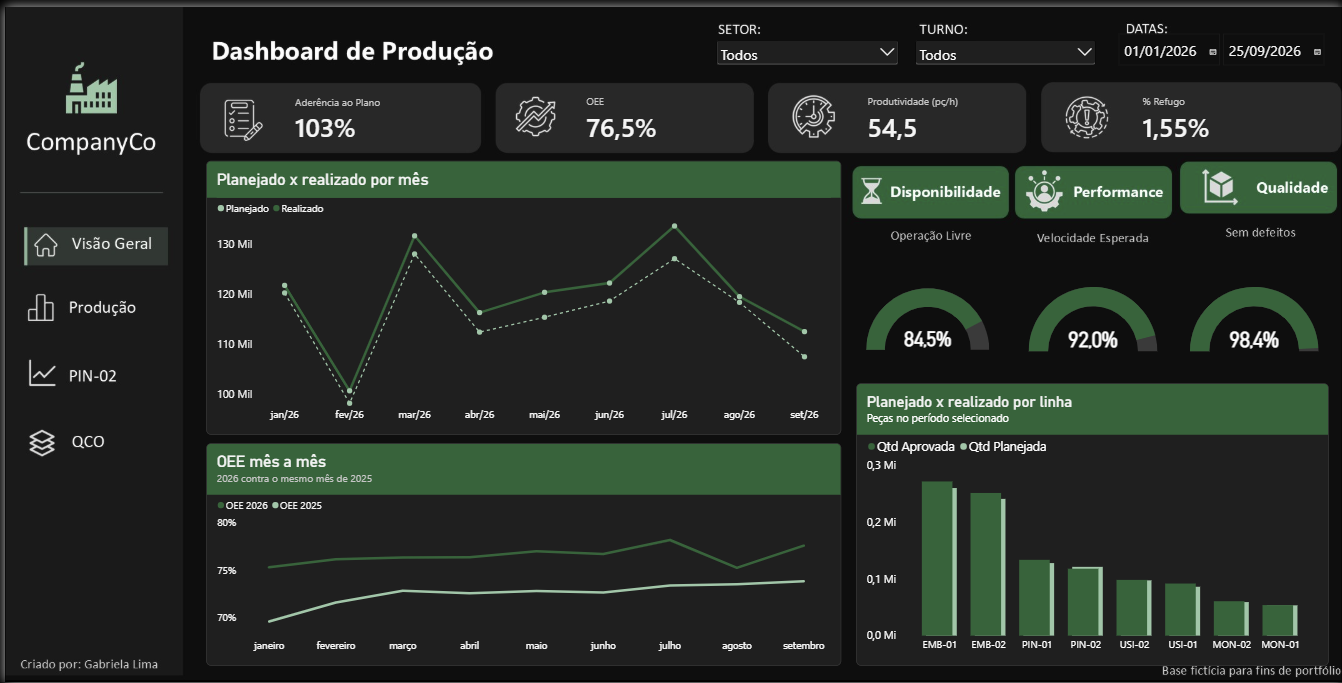

The dashboard page shown, as its layout file describes it:
{"tool":"powerbi","page":{"name":"Gestor","canvas":[2140,1080],"ordinal":0},"visuals":[{"type":"cardVisual","fields":{"Data":["Calendario.Aderência ao Plano"]},"box":[448.3,123.3,315,110],"z":0},{"type":"cardVisual","fields":{"Data":["Calendario.OEE"]},"box":[913.3,123.3,280,110],"z":1000},{"type":"cardVisual","fields":{"Data":["Calendario.Produtividade (pç/h)"]},"box":[1363.3,123.3,278.3,110],"z":2000},{"type":"cardVisual","fields":{"Data":["Calendario.% Refugo"]},"box":[1803.3,123.3,336.7,110],"z":3000},{"type":"lineChart","title":"Planejado x realizado por mês","fields":{"Category":["Calendario.Início do Mês"],"Y":["Calendario.Qtd Planejada","Calendario.Qtd Aprovada"]},"box":[322,246,1016,438],"z":4000},{"type":"slicer","fields":{"Values":["Turno.Turno"]},"box":[1452,48,298,50],"z":5000},{"type":"slicer","fields":{"Values":["LinhaSetor.Setor"]},"box":[1134,48,300,70],"z":6000},{"type":"gauge","fields":{"Y":["Calendario.Disponibilidade"]},"box":[1362.5,398.8,228.8,203.8],"z":7000},{"type":"gauge","fields":{"Y":["Calendario.Performance"]},"box":[1621.2,398.8,237.5,203.8],"z":8000},{"type":"gauge","fields":{"Y":["Calendario.Qualidade"]},"box":[1880,398.8,237.5,203.8],"z":9000},{"type":"slicer","fields":{"Values":["Calendario.Datas"]},"box":[1774,38,366,86],"z":10000},{"type":"lineChart","title":"OEE mês a mês","fields":{"Category":["Calendario.Nome do Mês"],"Y":["Calendario.OEE","Calendario.OEE Ano Anterior"]},"box":[322,698,1016,356],"z":11000},{"type":"clusteredColumnChart","title":"Planejado x realizado por linha","fields":{"Category":["LinhaSetor.Linha"],"Y":["Calendario.Qtd Aprovada","Calendario.Qtd Planejada"]},"box":[1362,602,756,452],"z":12000},{"type":"actionButton","box":[0,436,282,104],"z":13000},{"type":"actionButton","box":[0,540,282,104],"z":14000},{"type":"actionButton","box":[0,645,282,104],"z":14001}]}

Visuals, with their boxes on the page's 2140x1080 design canvas (x1, y1, x2, y2). These are canvas units, not pixel positions in the 1342x683 screenshot, which may show the page scaled, cropped or inside an application window:
cardVisual - Calendario.Aderência ao Plano: {"left": 448, "top": 123, "right": 763, "bottom": 233}
cardVisual - Calendario.OEE: {"left": 913, "top": 123, "right": 1193, "bottom": 233}
cardVisual - Calendario.Produtividade (pç/h): {"left": 1363, "top": 123, "right": 1642, "bottom": 233}
cardVisual - Calendario.% Refugo: {"left": 1803, "top": 123, "right": 2140, "bottom": 233}
"Planejado x realizado por mês" lineChart: {"left": 322, "top": 246, "right": 1338, "bottom": 684}
slicer - Turno.Turno: {"left": 1452, "top": 48, "right": 1750, "bottom": 98}
slicer - LinhaSetor.Setor: {"left": 1134, "top": 48, "right": 1434, "bottom": 118}
gauge - Calendario.Disponibilidade: {"left": 1362, "top": 399, "right": 1591, "bottom": 603}
gauge - Calendario.Performance: {"left": 1621, "top": 399, "right": 1859, "bottom": 603}
gauge - Calendario.Qualidade: {"left": 1880, "top": 399, "right": 2118, "bottom": 603}
slicer - Calendario.Datas: {"left": 1774, "top": 38, "right": 2140, "bottom": 124}
"OEE mês a mês" lineChart: {"left": 322, "top": 698, "right": 1338, "bottom": 1054}
"Planejado x realizado por linha" clusteredColumnChart: {"left": 1362, "top": 602, "right": 2118, "bottom": 1054}
actionButton: {"left": 0, "top": 436, "right": 282, "bottom": 540}
actionButton: {"left": 0, "top": 540, "right": 282, "bottom": 644}
actionButton: {"left": 0, "top": 645, "right": 282, "bottom": 749}
